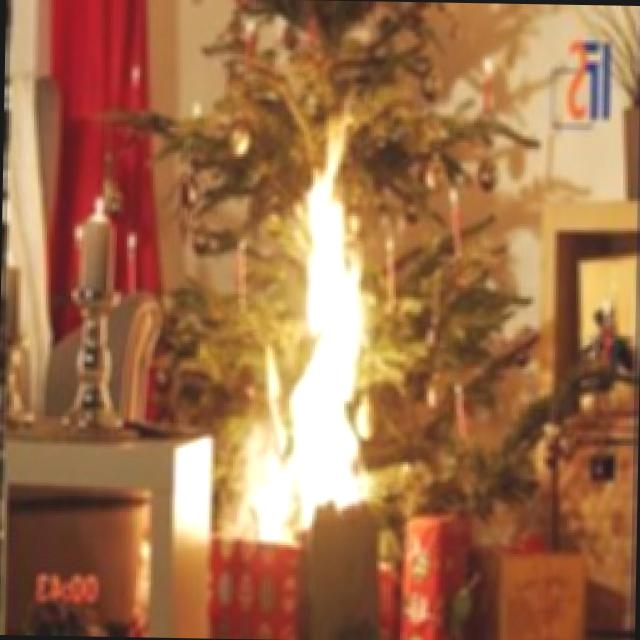fire: (232, 109, 406, 546)
